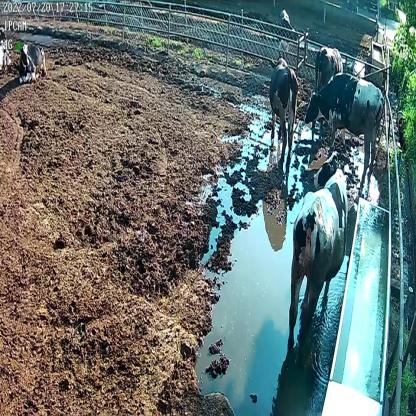cow: (289, 152, 349, 358), (304, 72, 386, 180), (266, 51, 299, 166), (314, 44, 344, 88), (18, 35, 46, 79)
